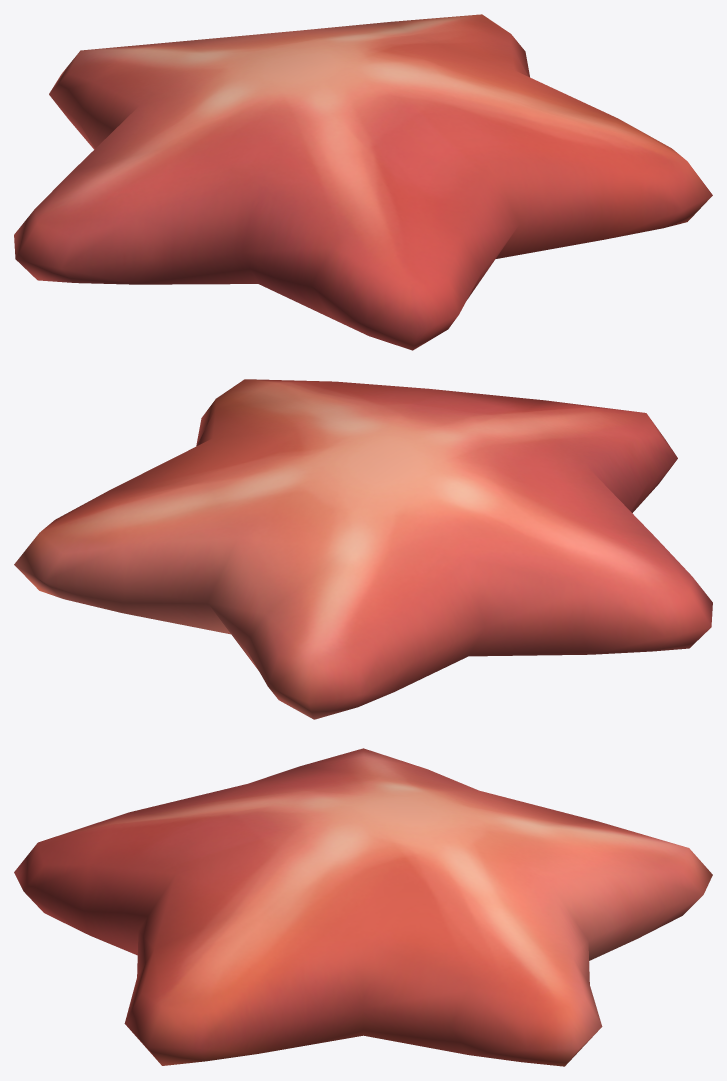
The model's file is haixing01.fbx.
3 renders of one model, top to bottom at view 1: azimuth 30°, elevation 25°; view 2: azimuth 150°, elevation 25°; view 3: azimuth 270°, elevation 25°, orthographic. The views are drawn at different scales.
Parts seen in each view (by area): view 1: haixing01; view 2: haixing01; view 3: haixing01.
Boxes of the visible parts, box(x1,y1,x2,y2) form: haixing01: box(14, 14, 712, 350); haixing01: box(14, 379, 712, 719); haixing01: box(14, 748, 712, 1066).
Size of the model in its own units: 3.86 by 0.8862 by 4.02.
